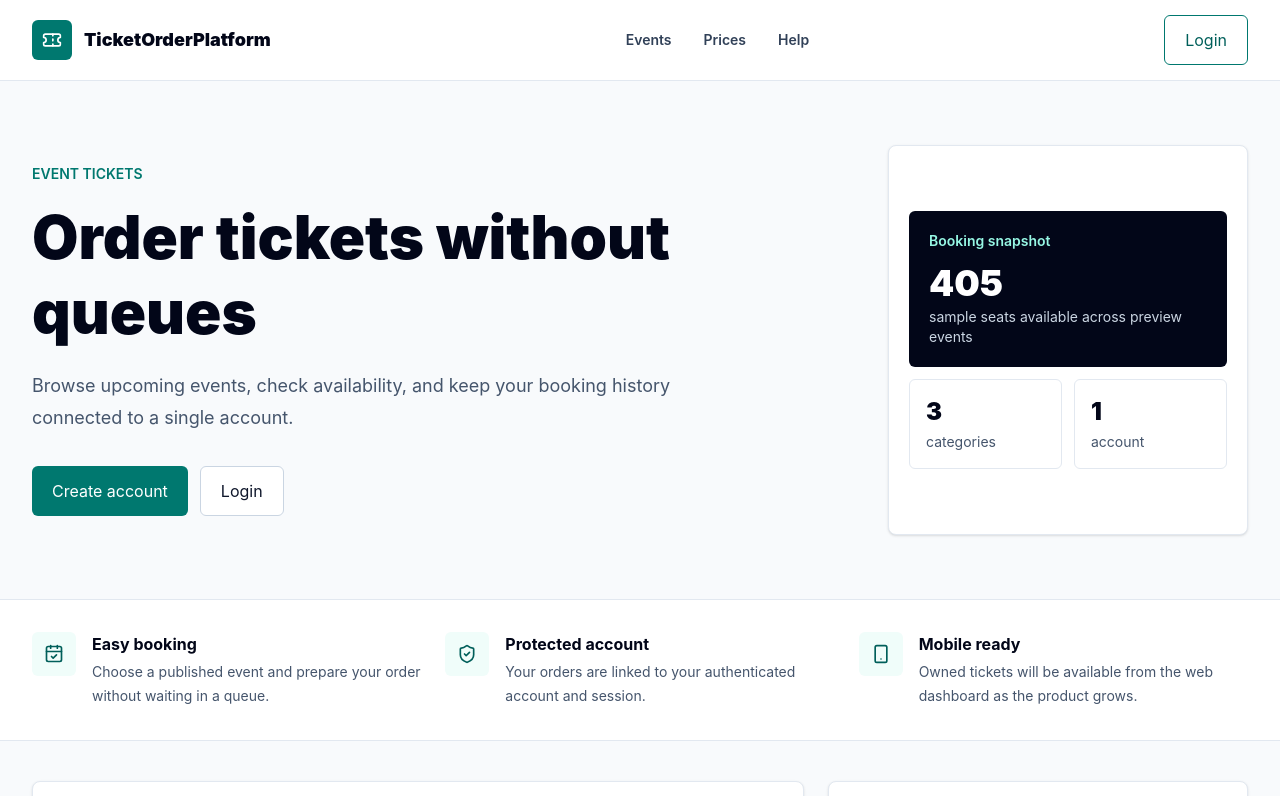
Test case: App › logs out an authenticated user
Click the button "Login" in the row of "Help" at coordinates (1206, 40), box [1164,15,1248,65]
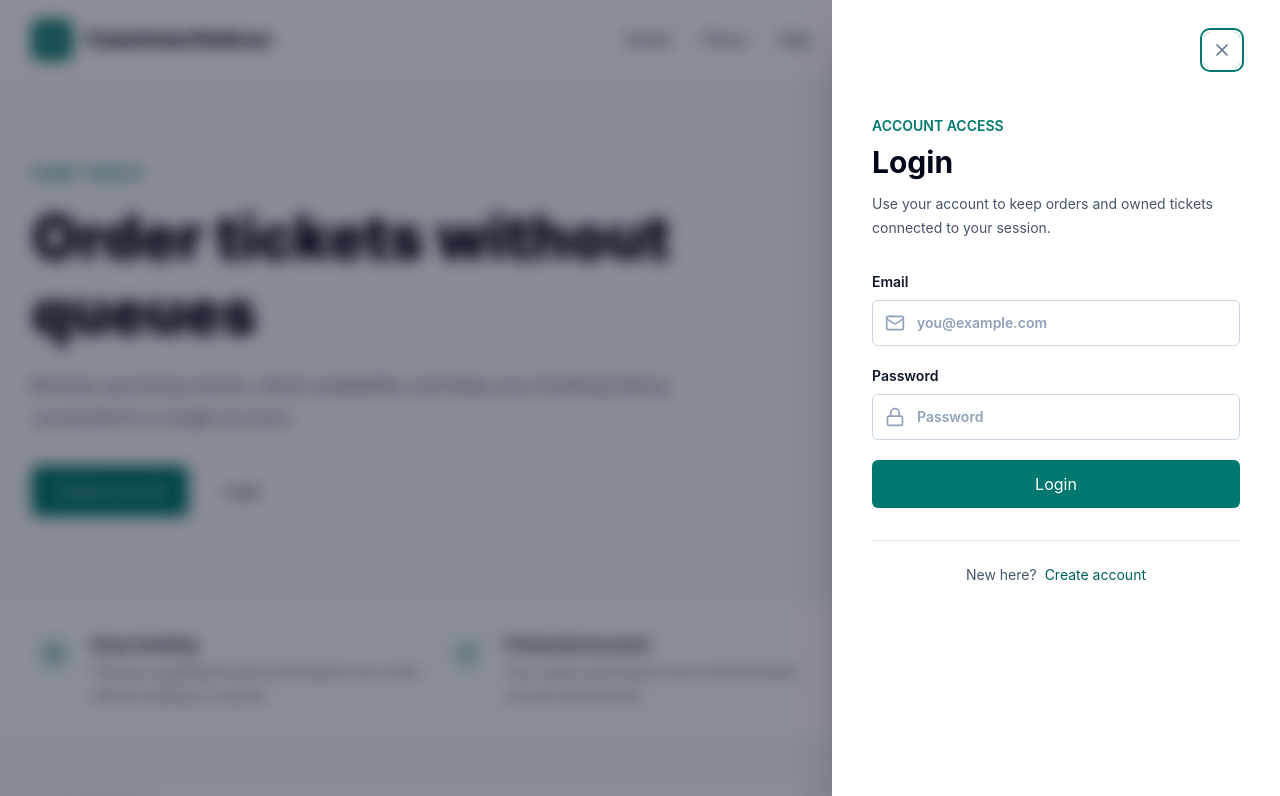
Type "buyer@example.com" into the field labelled "Email" at coordinates (1072, 323), box [917,313,1227,333]
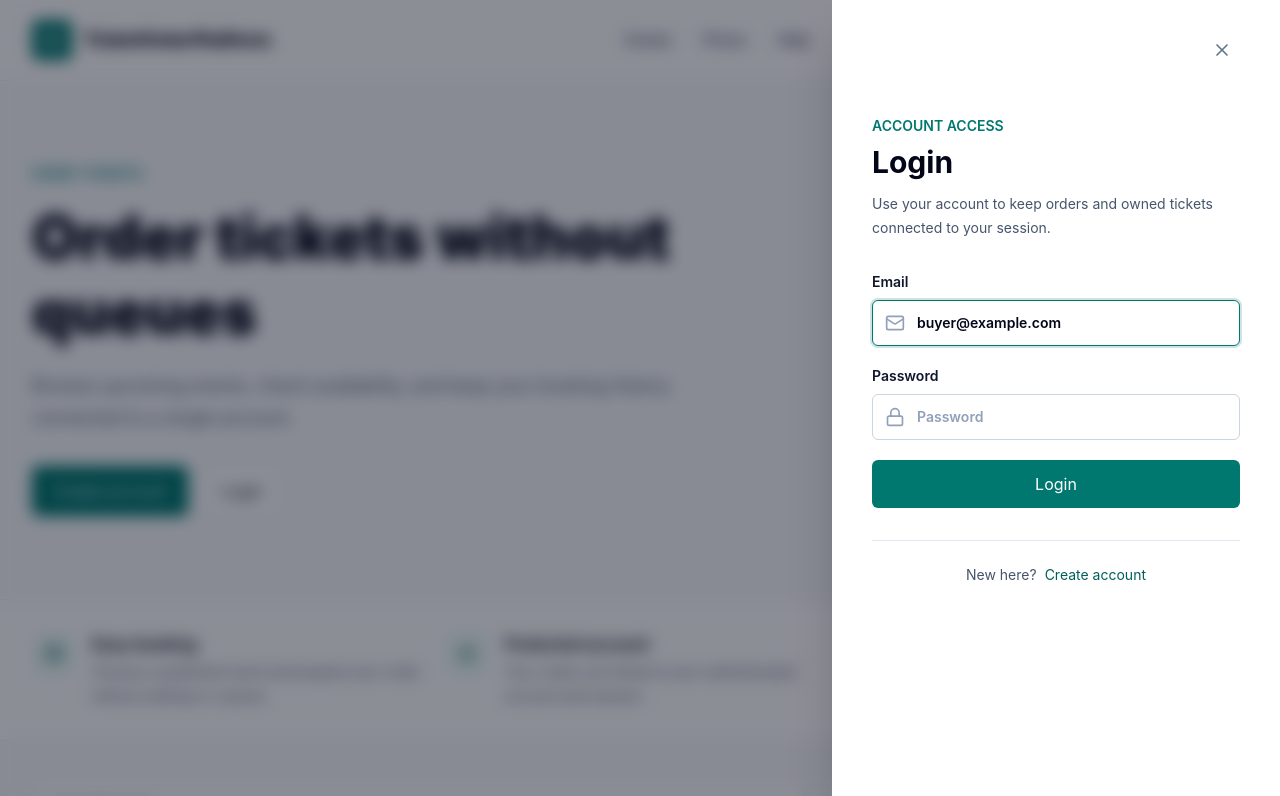
Type "correct-password" into the password field labelled "Password" at coordinates (1072, 417), box [917,407,1227,427]
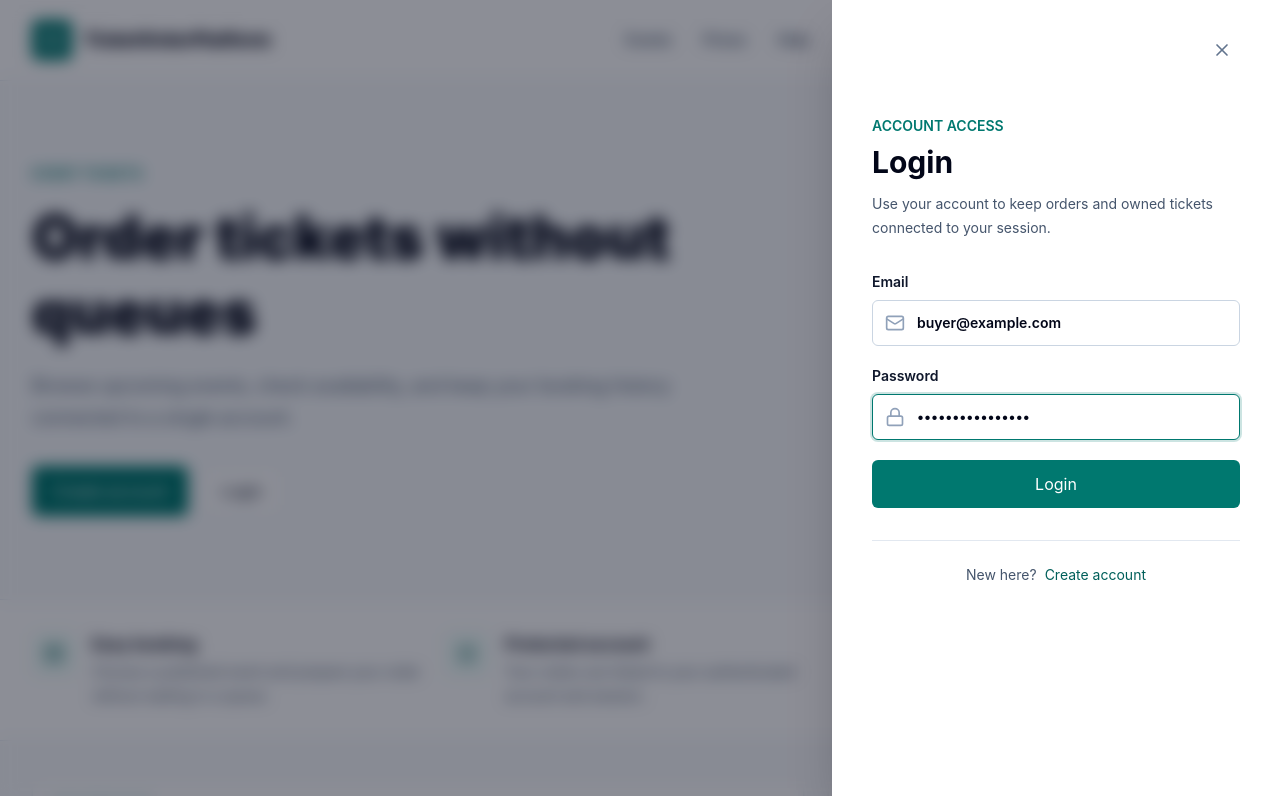
Click the button "Login" at coordinates (1056, 484), box [872,460,1240,508]
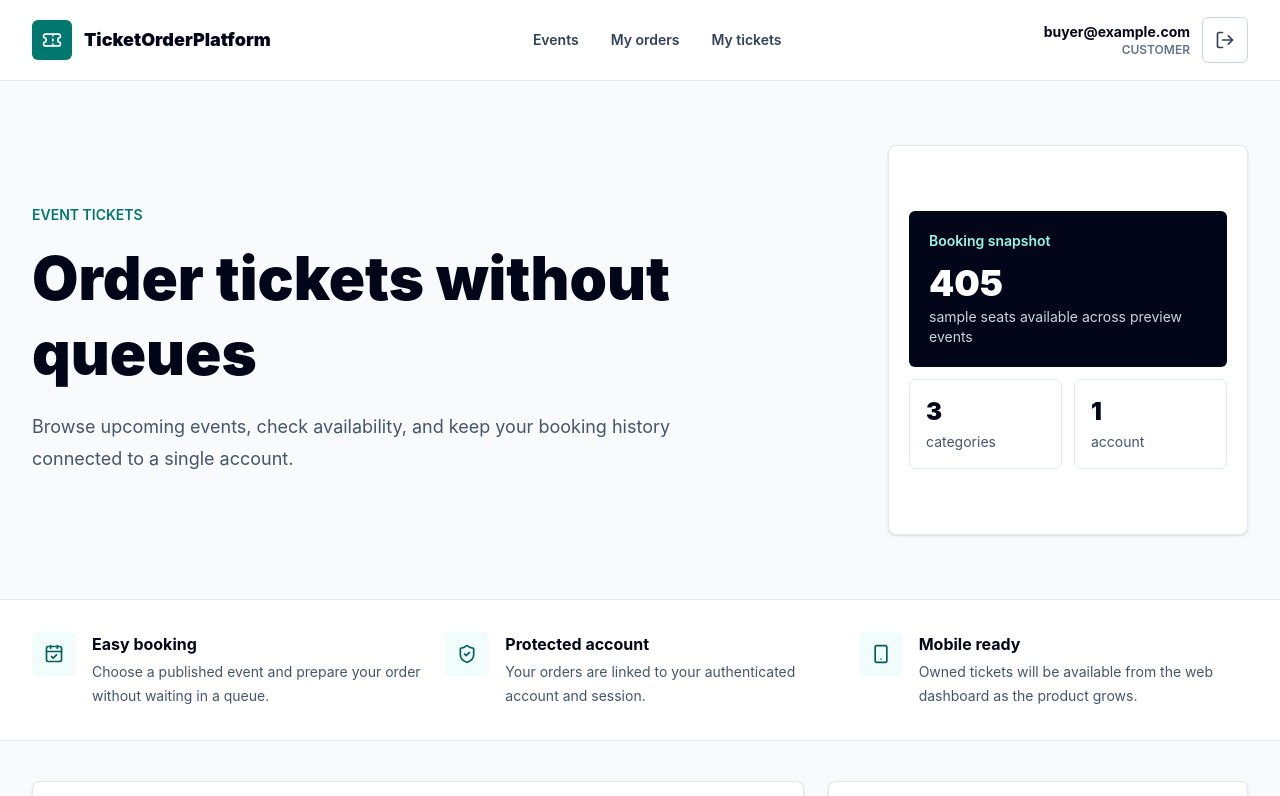
Expected: the text "buyer@example.com" is shown, [1044,22,1190,42]
Click the button named "Logout" at coordinates (1225, 40), box [1202,17,1248,63]
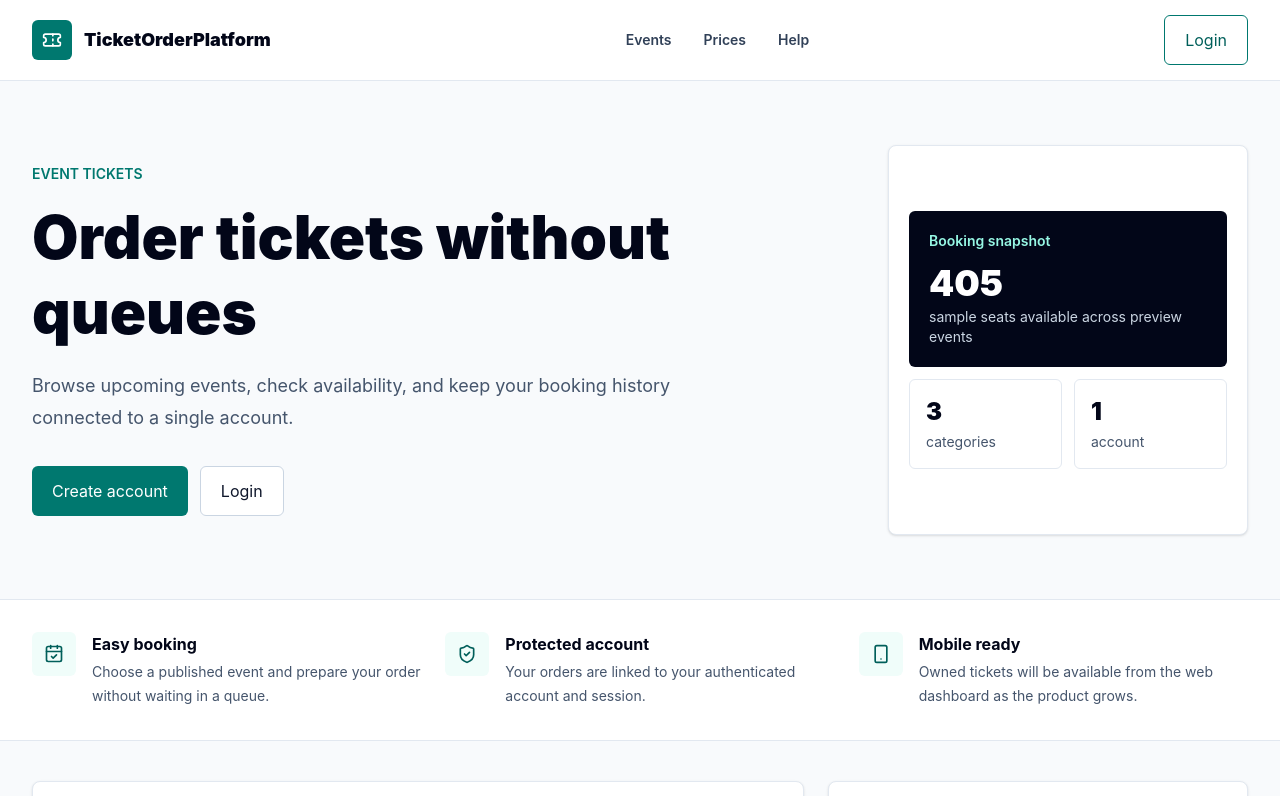
Expected: the text "buyer@example.com" is gone
Expected: the button "Create account" is shown, [32,466,188,516]
Expected: the button "Login" in the row of "Help" is shown, [1164,15,1248,65]
